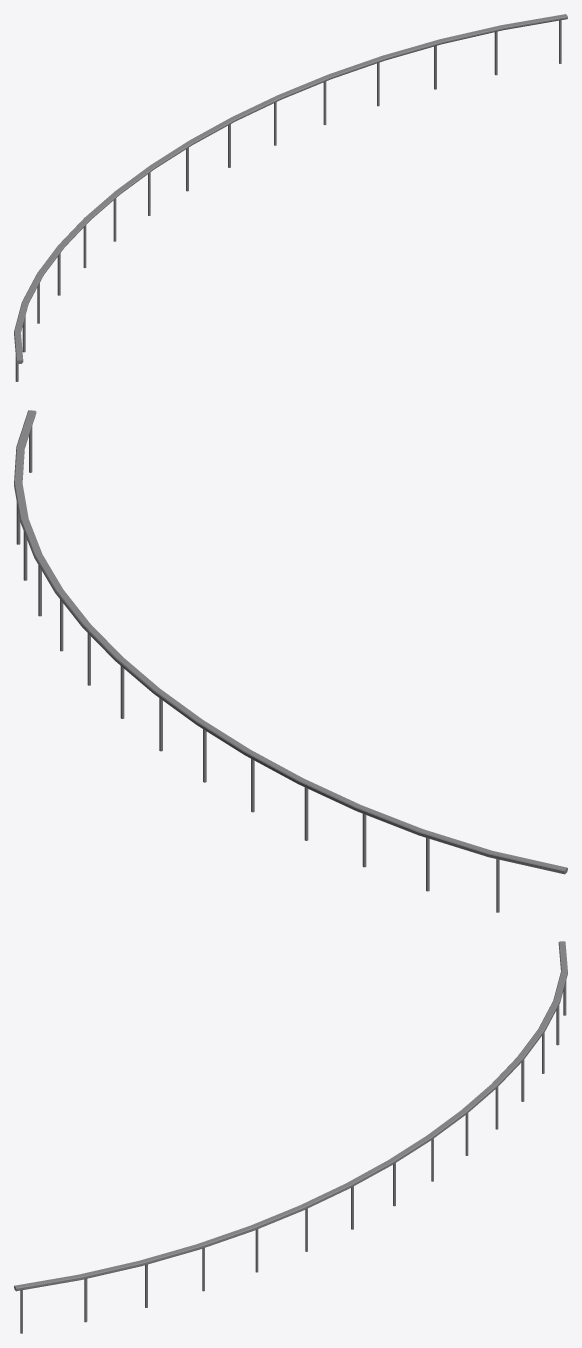
Rendered from SM_Handrail_01_Splines_42.fbx.
The picture shows the model from 3 angles, top to bottom: view 1: azimuth 90°, elevation 25°; view 2: azimuth 150°, elevation 25°; view 3: azimuth 270°, elevation 25°; orthographic projection. The views are drawn at different scales.
Parts seen in each view (by area): view 1: SM_Handrail_01_Splines_42; view 2: SM_Handrail_01_Splines_42; view 3: SM_Handrail_01_Splines_42.
Boxes of the visible parts, x1,y1,x2,y2 form: SM_Handrail_01_Splines_42: [14, 14, 567, 381]; SM_Handrail_01_Splines_42: [14, 410, 567, 912]; SM_Handrail_01_Splines_42: [14, 941, 567, 1333].
Bounding box in the file's own units: 1180 × 796 × 75.
